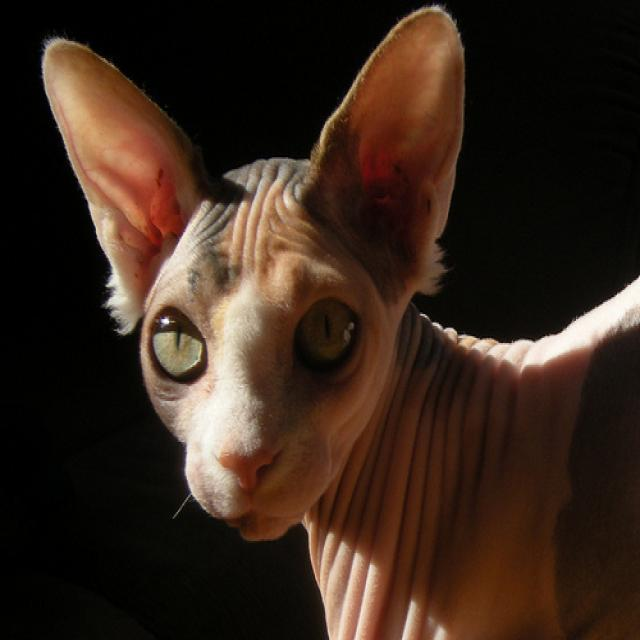Sphynx: (40, 5, 463, 539)
